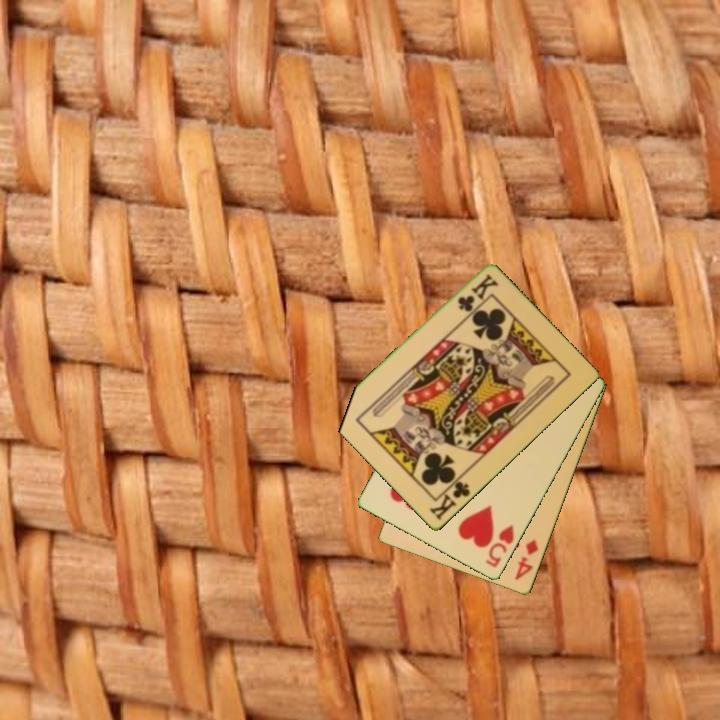4d: (511, 536, 542, 583)
5h: (482, 521, 517, 571)
Kc: (426, 473, 473, 523), (454, 271, 500, 315)
